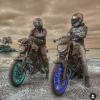motorcycles: (48, 40, 82, 94), (9, 38, 42, 87)
